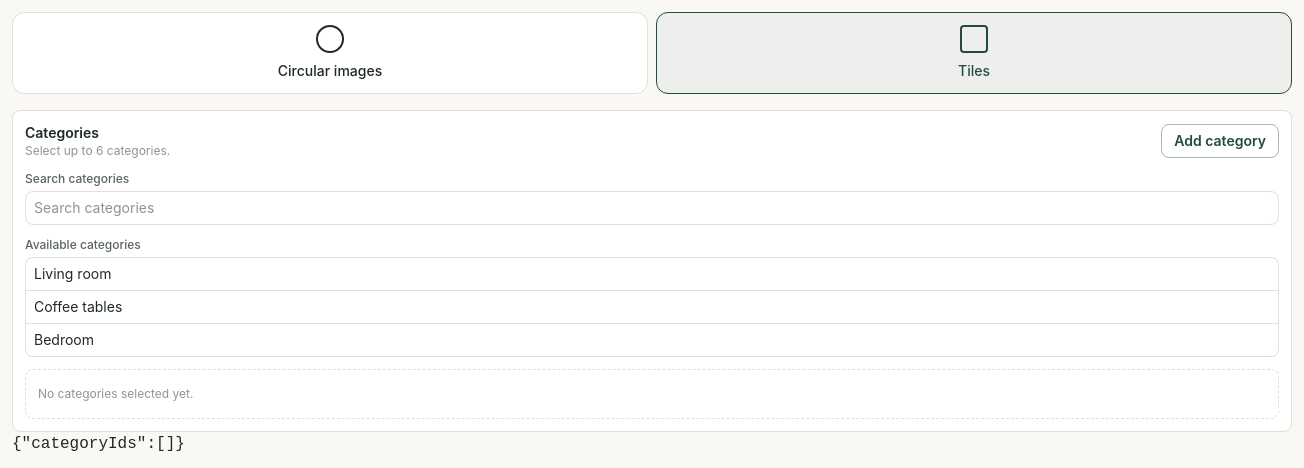
CategoryTilesSectionEditor › loads nested category options, stores UUIDs, and never stores display names
Expected: the button "Living room" is shown, [26,258,1278,291]
What coordinates should you click on to do the following:
click the button "Coffee tables"
I would click on:
 (78, 306)
Its box is [26,291,1278,324].
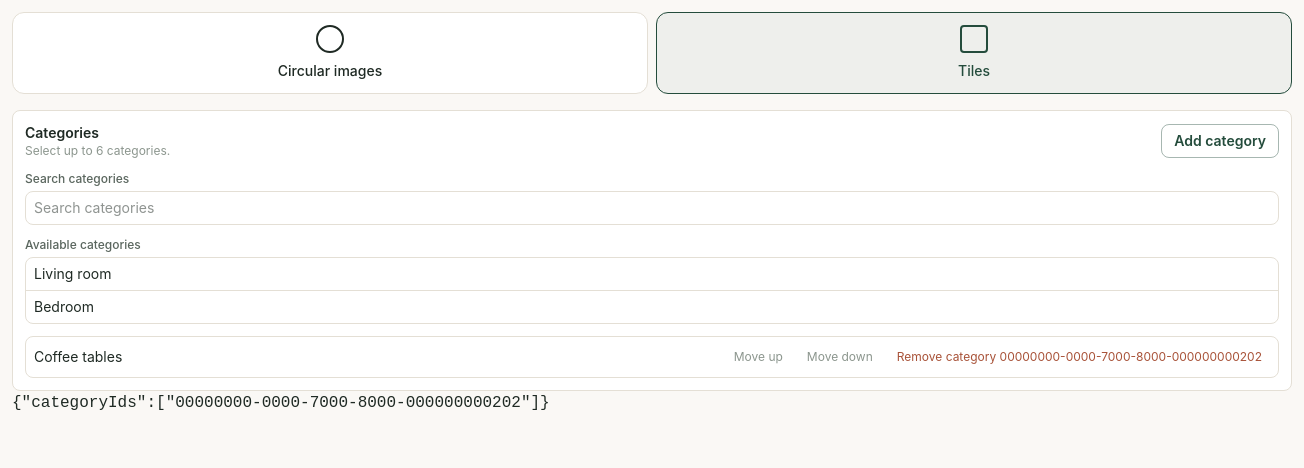
Expected: the button "Add category" is enabled, [1161,124,1279,158]
Result: the element with test id "category-tile-row-00000000-0000-7000-8000-000000000202" shows "Coffee tables" at [34,348,122,365]
